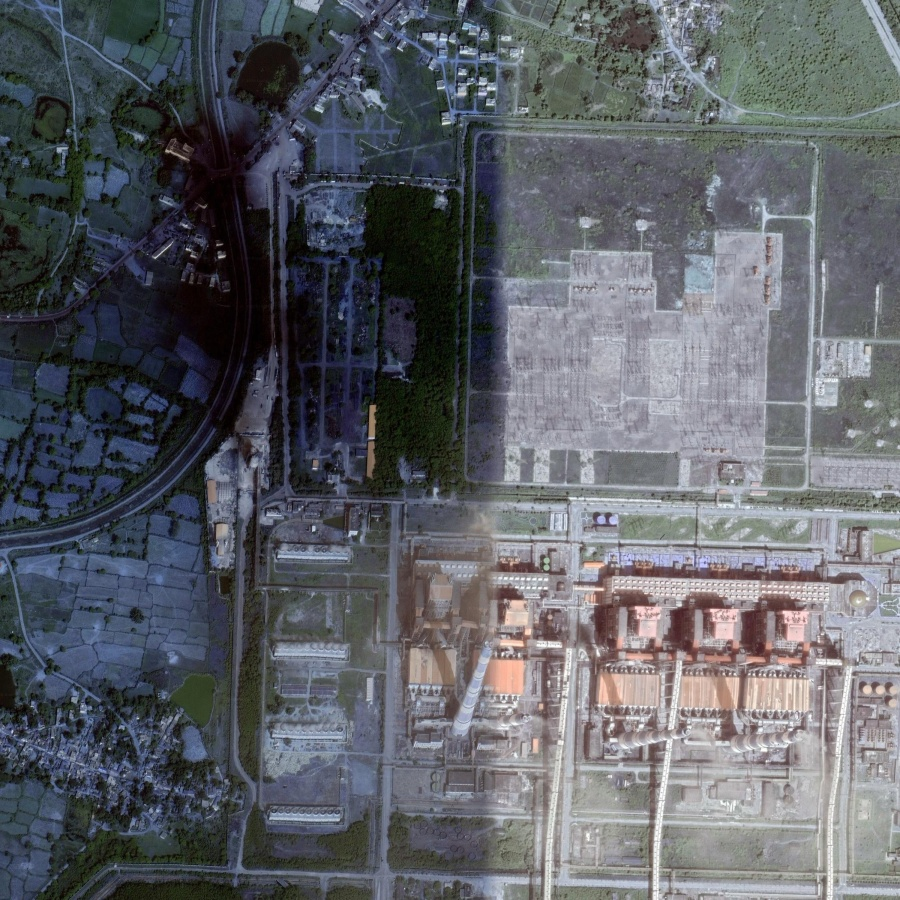PowerPlant: (383, 494, 845, 836)
